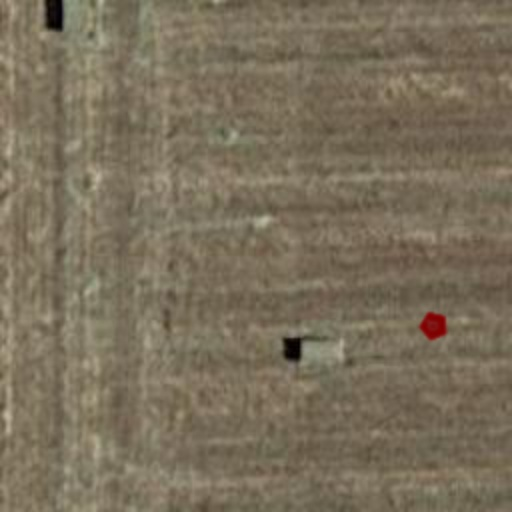pentagon: (414, 306, 454, 346)
